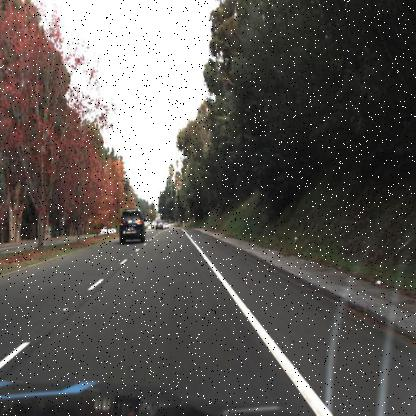car: (114, 207, 145, 250), (99, 221, 117, 240), (152, 216, 164, 233)
